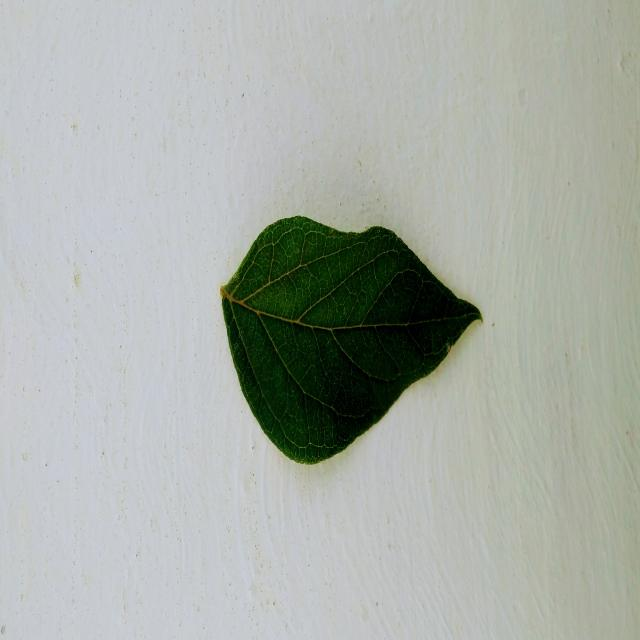Parijatha: (221, 216, 481, 464)
